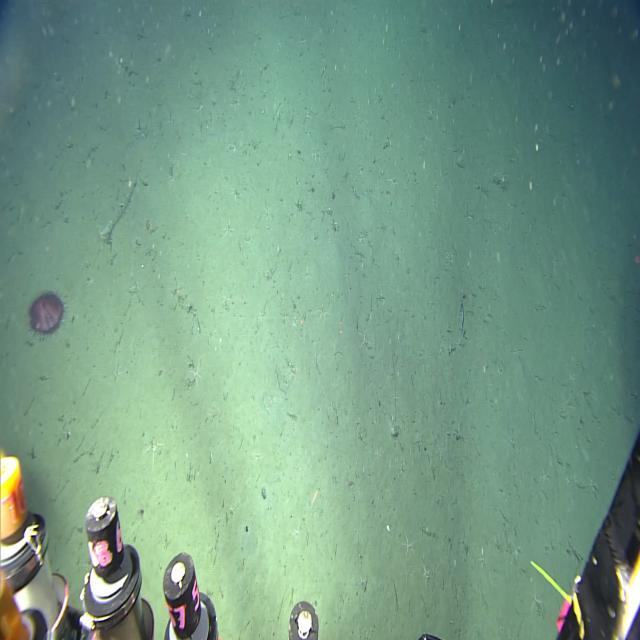Brittle Star: (141, 431, 166, 468), (186, 355, 207, 390), (356, 325, 376, 354), (399, 528, 418, 558), (109, 357, 127, 386)
Not Brittle Star: (25, 286, 68, 344)
